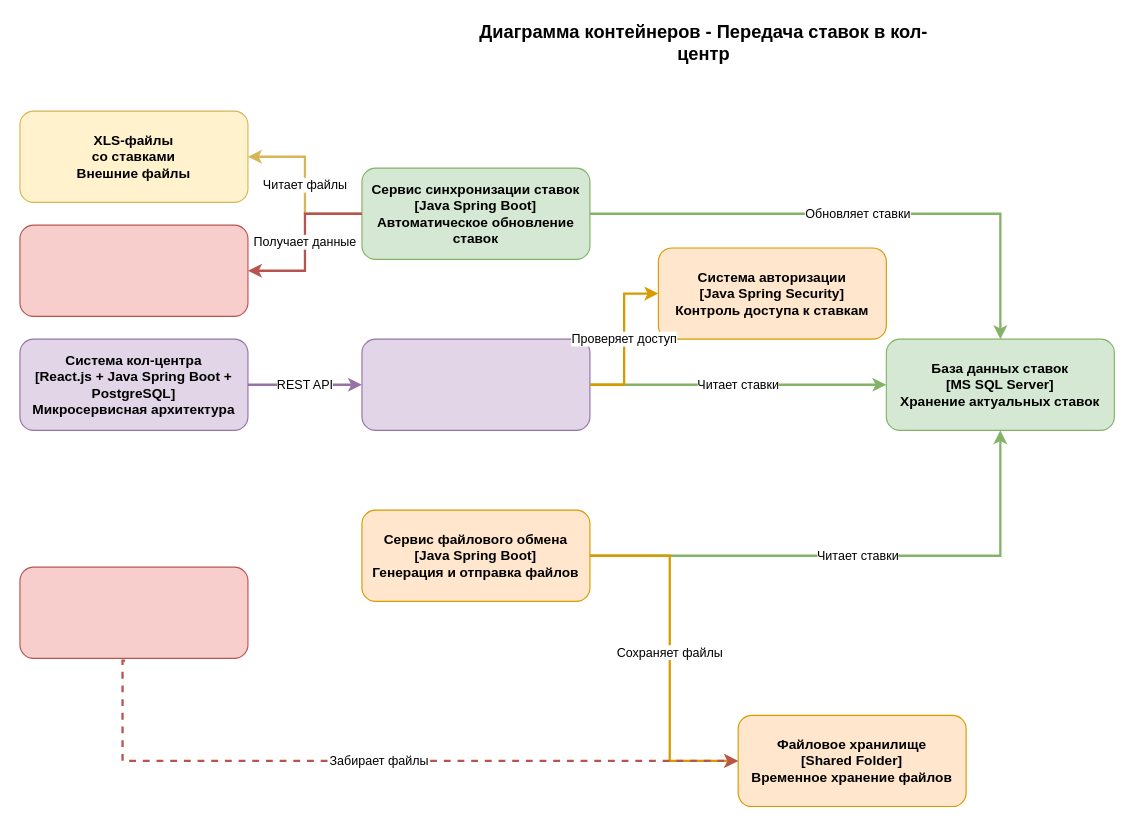
Some shapes in this 1134 by 827 pixel diagram are drawn without their labels. The box of each missing label's shape, as (x1, y1, x2, y2) in pixels:
API для кол-центра [Java Spring Boot] Предоставление ставок: (361, 338, 590, 430)
АБС [Delphi + Oracle + PL-SQL] Основная система учёта: (19, 224, 248, 316)
Партнёрский кол-центр Внешняя система: (19, 566, 248, 658)
